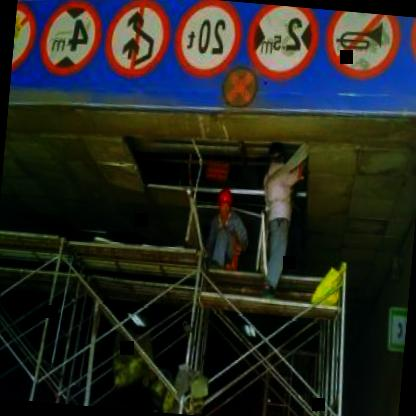helmet: (260, 138, 288, 184), (214, 184, 237, 224)
